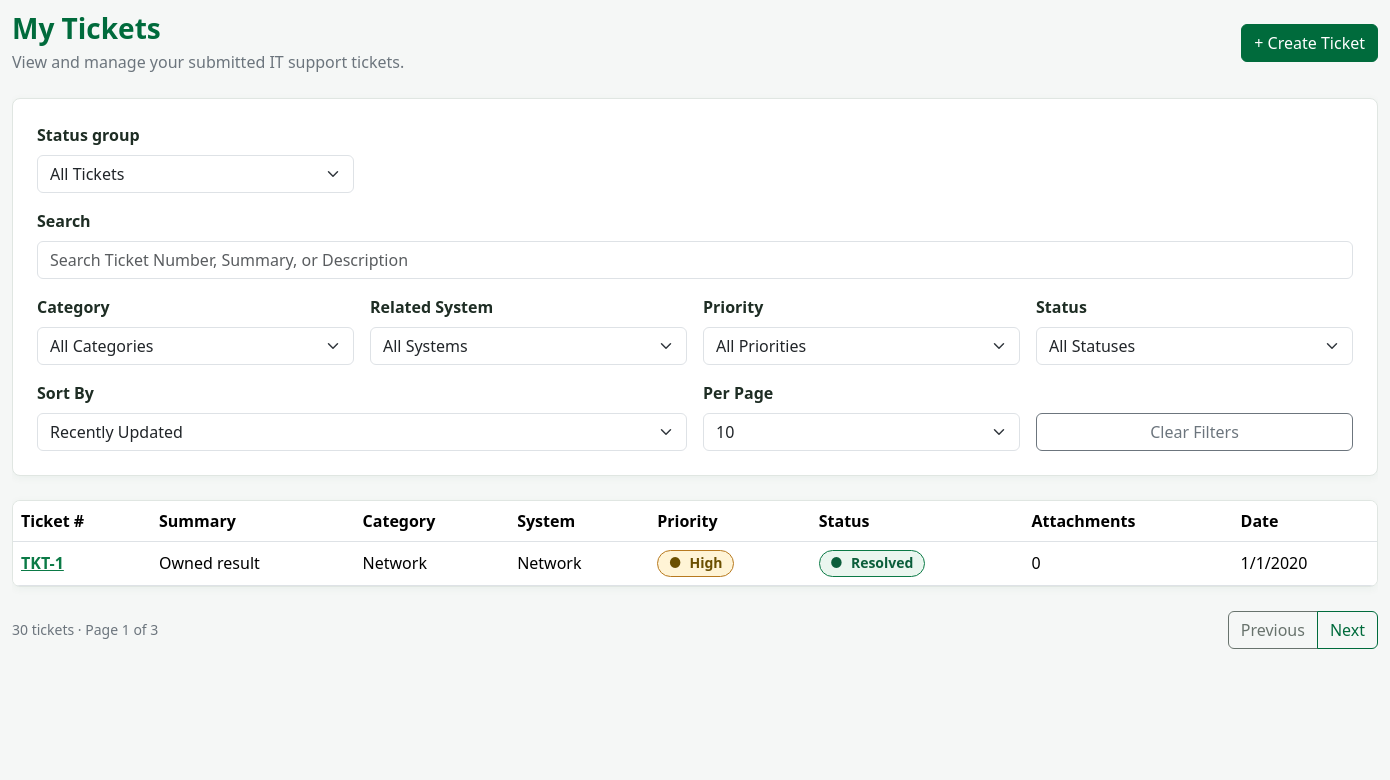
Test: recent-only URL can reset sort and page without claiming filter no-results
Click the button "Clear Filters" at [1194, 432], box x1=1036 y1=413 x2=1353 y2=451
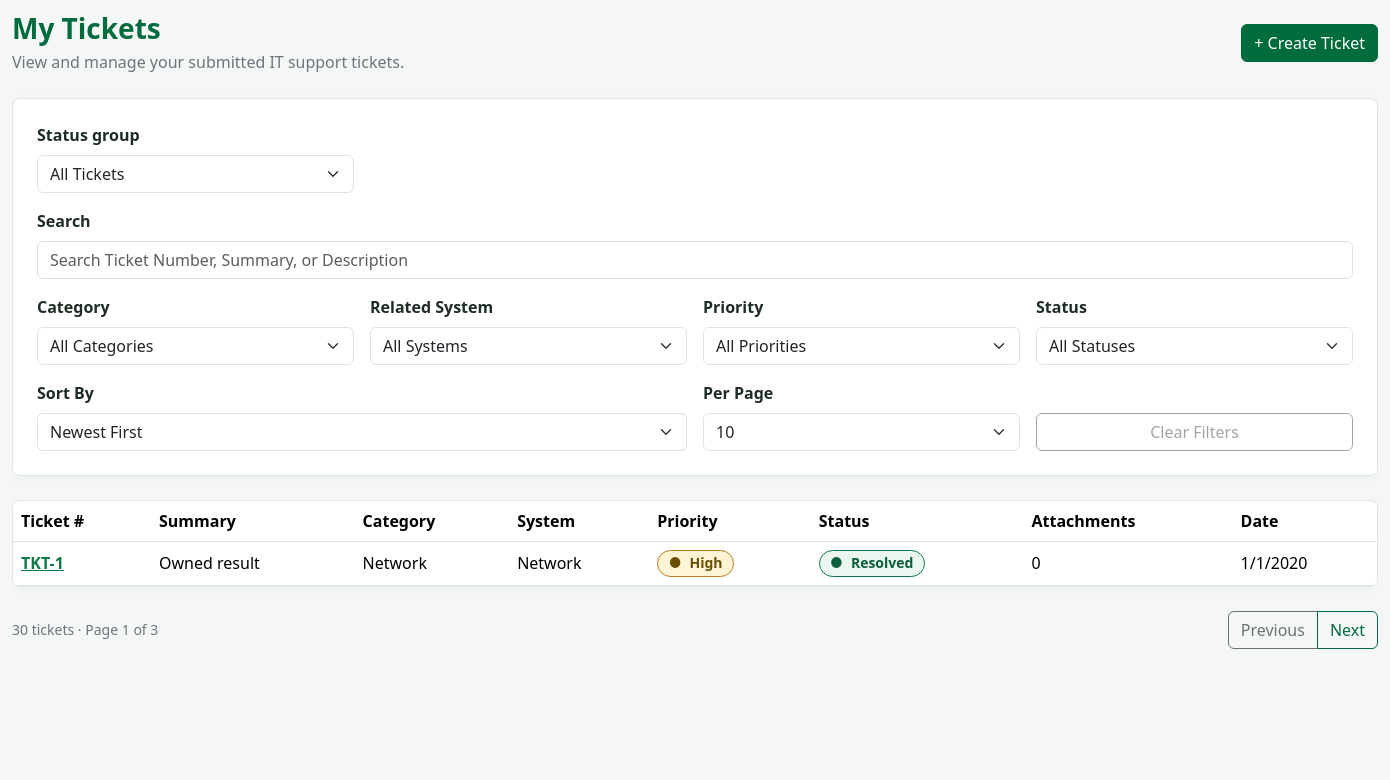
Result: the dropdown labelled "Sort By" shows "Newest First" at x1=37 y1=413 x2=687 y2=451
